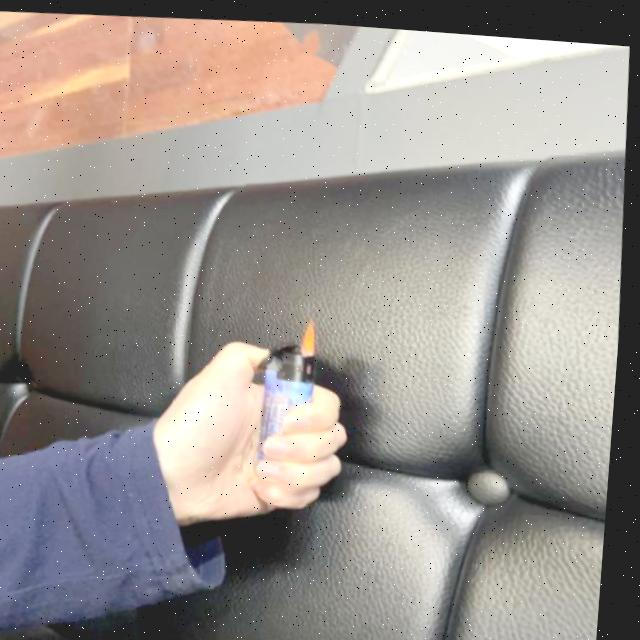Fire: (303, 313, 321, 351)
